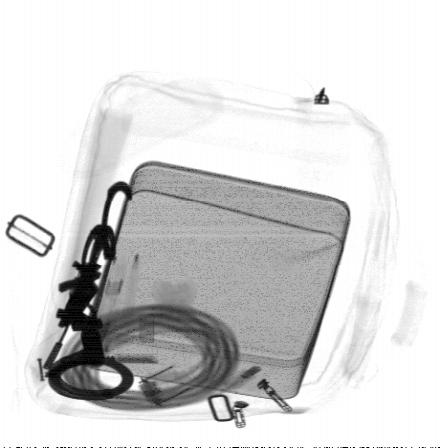Gun: (42, 230, 109, 374)
HandCuffs: (46, 180, 134, 403)
